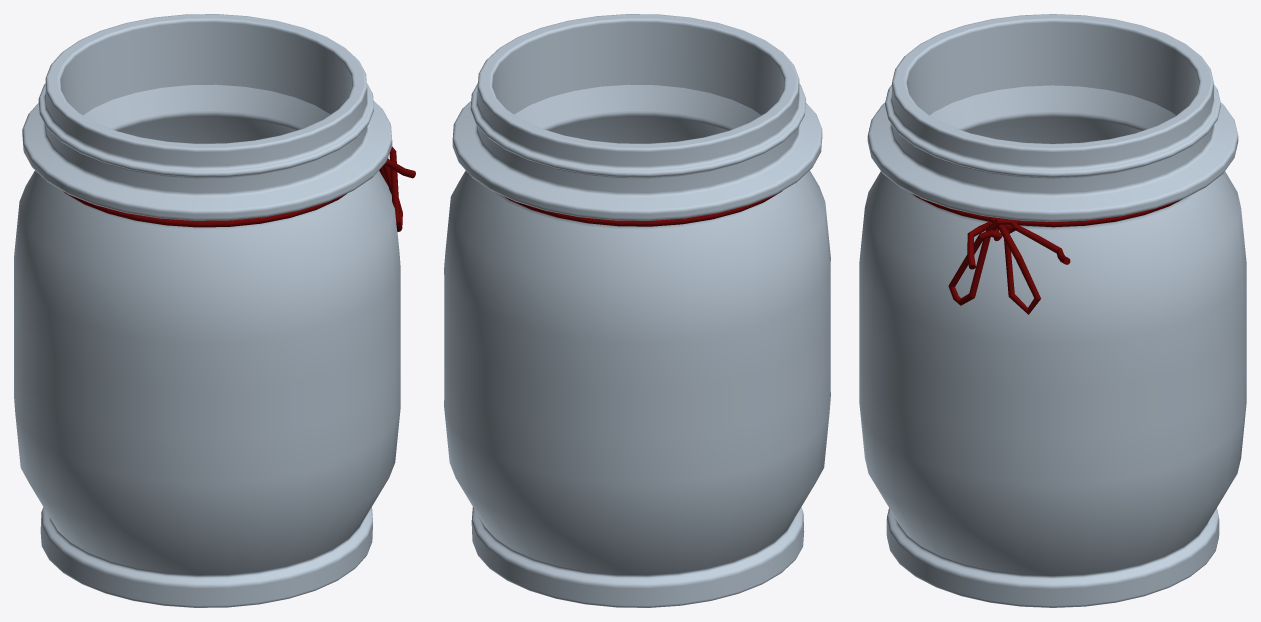
Rendered from jar_cylinder.glb.
3 views of the same model, side by side, from view 1: azimuth 30°, elevation 25°; view 2: azimuth 150°, elevation 25°; view 3: azimuth 270°, elevation 25° (orthographic).
Parts seen in each view (by area): view 1: jar.002, jar_Curve.003; view 2: jar.002, jar_Curve.003; view 3: jar.002, jar_Curve.003.
Part boxes in pixels (x1=…): jar.002: x1=14, y1=14, x2=400, y2=607; jar_Curve.003: x1=63, y1=147, x2=415, y2=231; jar.002: x1=444, y1=14, x2=830, y2=607; jar_Curve.003: x1=504, y1=191, x2=781, y2=226; jar.002: x1=859, y1=14, x2=1246, y2=607; jar_Curve.003: x1=913, y1=194, x2=1182, y2=314.
Size of the model in its own units: 0.5146 by 0.6513 by 0.5003.
